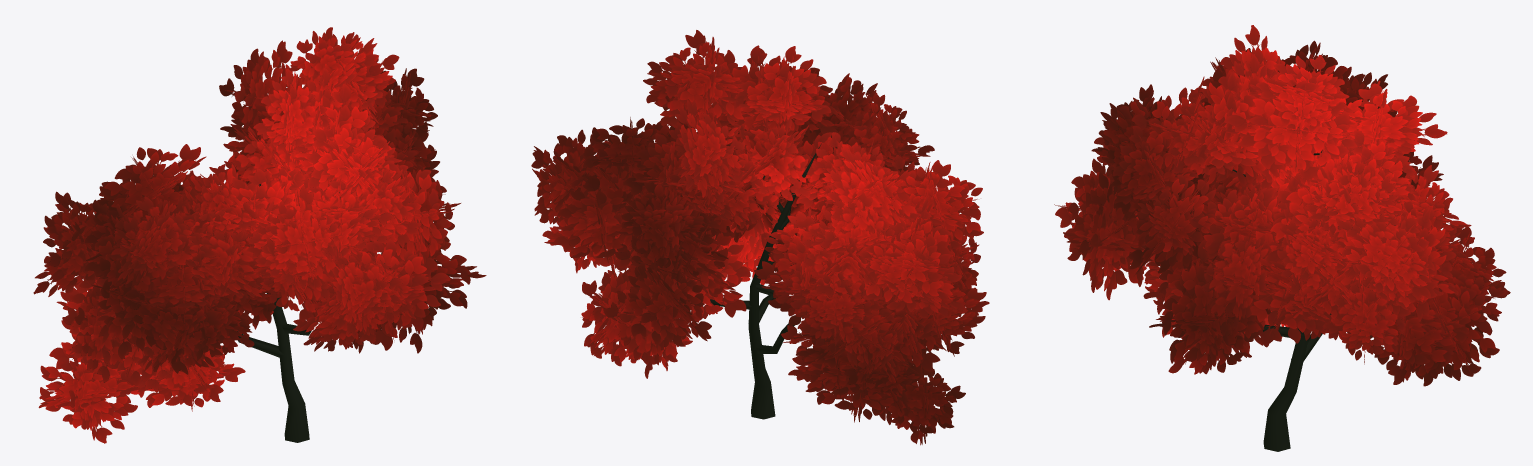
The model's file is tree_medium.glb.
The picture shows the model from 3 angles, left to right: view 1: azimuth 30°, elevation 25°; view 2: azimuth 150°, elevation 25°; view 3: azimuth 270°, elevation 25°; orthographic projection. The views are drawn at different scales.
Visible parts, largest first — view 1: Mesh_0; view 2: Mesh_0; view 3: Mesh_0.
Part boxes in pixels (bbox=[...]): Mesh_0: bbox=[33, 27, 486, 443]; Mesh_0: bbox=[531, 30, 989, 445]; Mesh_0: bbox=[1054, 25, 1510, 451].
Size of the model in its own units: 18.59 by 15.25 by 15.77.
Materials: 1 (1 with a texture image).
